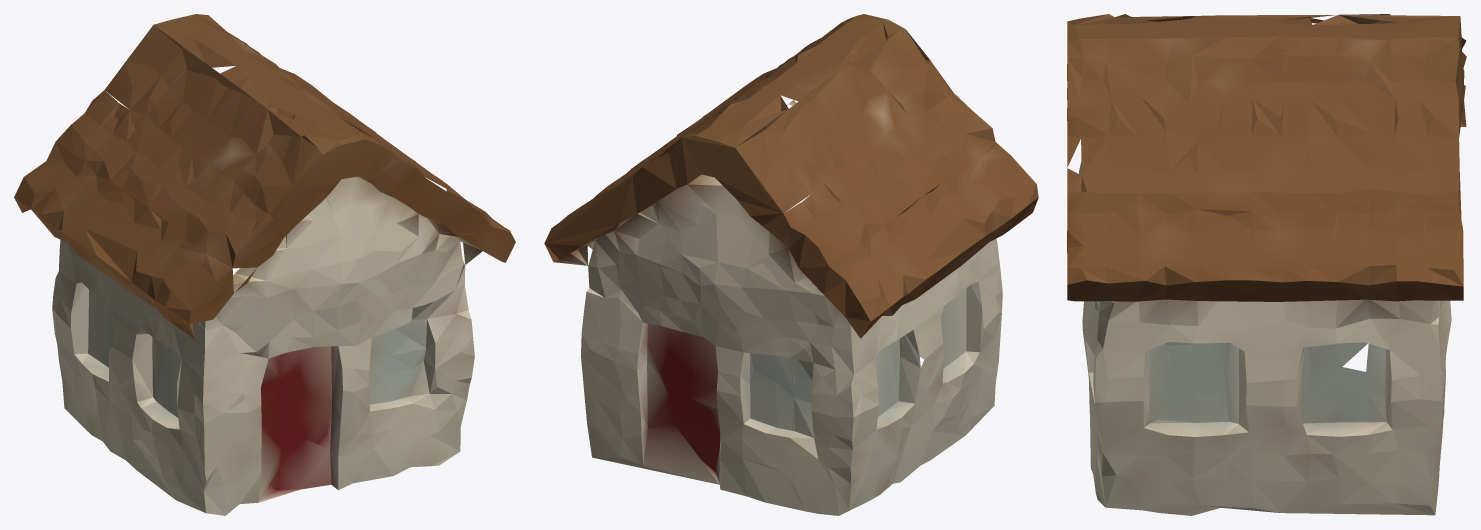
Rendered from m-agujero-casa.glb.
The picture shows the model from 3 angles, left to right: view 1: azimuth 30°, elevation 25°; view 2: azimuth 150°, elevation 25°; view 3: azimuth 270°, elevation 25°; orthographic projection. The views are drawn at different scales.
Bounding box in the file's own units: 1.87 × 1.9 × 1.66.
